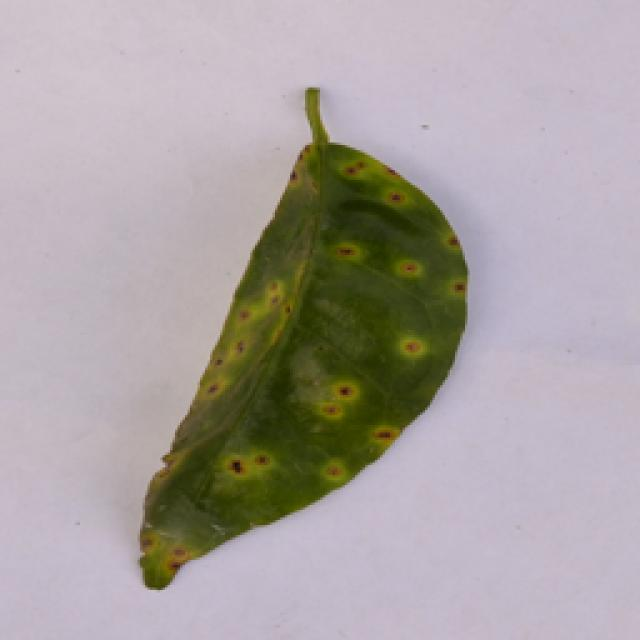canker: (118, 137, 508, 595)
